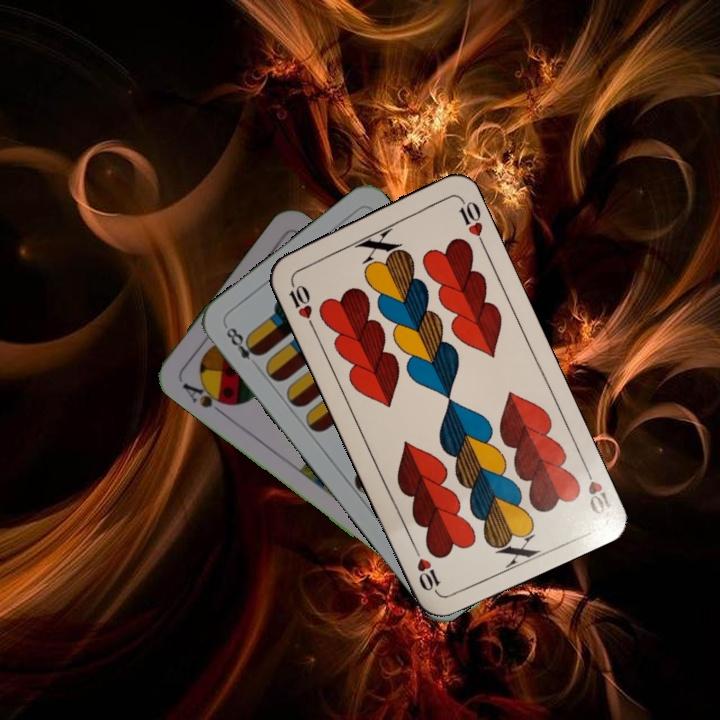E8: (221, 321, 264, 363)
H10: (579, 460, 615, 517), (285, 274, 317, 331)
SA: (178, 377, 234, 419)
